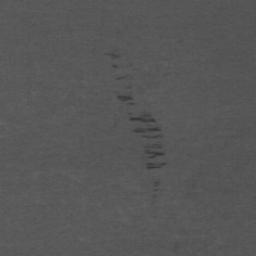Secondary rust skin: (128, 114, 163, 134), (145, 149, 167, 170), (117, 94, 134, 103)
